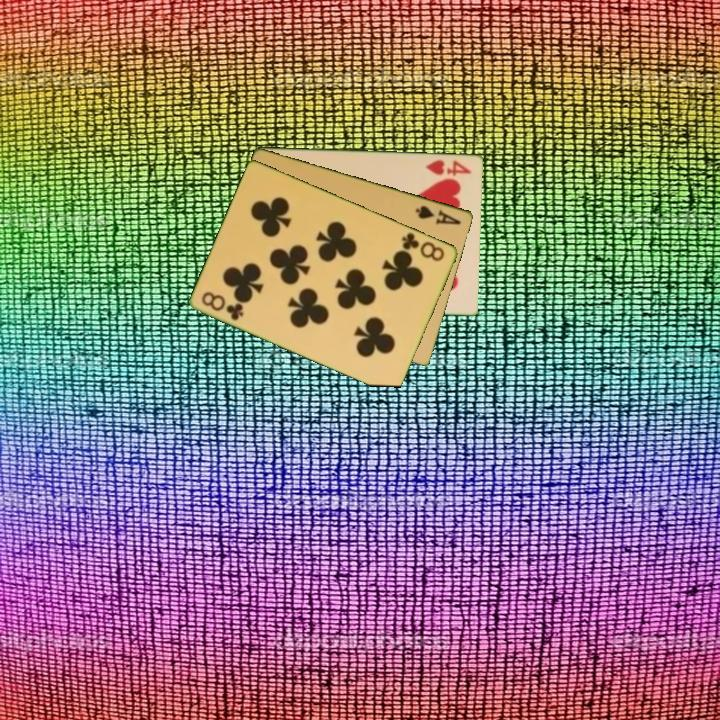4h: (422, 156, 474, 179)
8c: (398, 228, 448, 264), (198, 288, 247, 323)
As: (412, 202, 464, 227)
